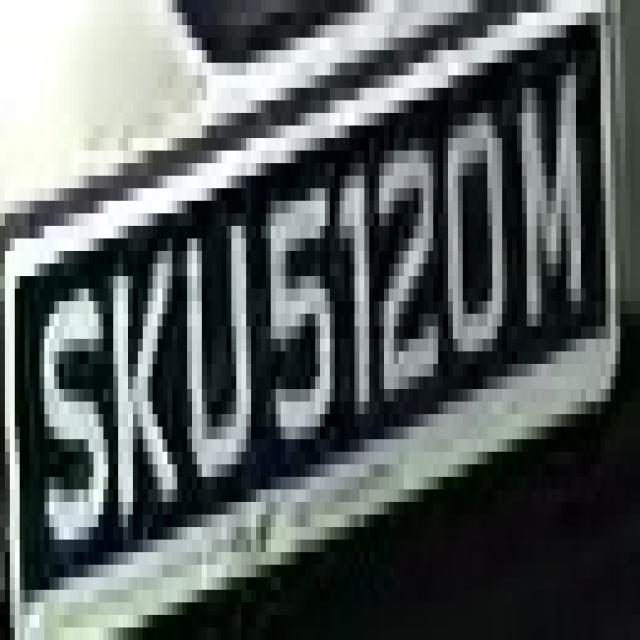0: (438, 50, 507, 364)
1: (345, 88, 384, 477)
2: (364, 88, 443, 414)
5: (256, 150, 340, 477)
K: (104, 226, 182, 552)
M: (512, 75, 601, 427)
S: (34, 251, 109, 565)
U: (177, 188, 261, 477)
